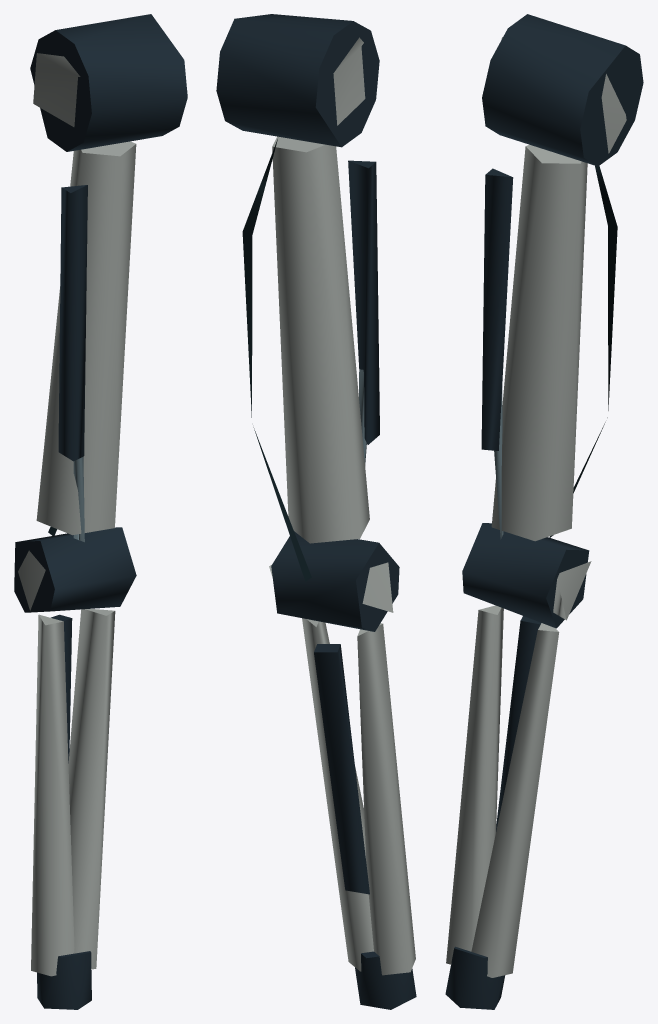
Rendered from aurel03_arm_r_d0_lod2.glb.
3 renders of one model, left to right at view 1: azimuth 30°, elevation 25°; view 2: azimuth 150°, elevation 25°; view 3: azimuth 330°, elevation 25°, orthographic. The views are drawn at different scales.
Parts seen in each view (by area): view 1: DISTANCE_SURFACE; view 2: DISTANCE_SURFACE; view 3: DISTANCE_SURFACE.
Part boxes in pixels (x1=…): DISTANCE_SURFACE: x1=14, y1=14, x2=187, y2=1009; DISTANCE_SURFACE: x1=216, y1=14, x2=416, y2=1009; DISTANCE_SURFACE: x1=445, y1=14, x2=643, y2=1009.
Bounding box in the file's own units: 0.0983 × 0.5927 × 0.0741.
